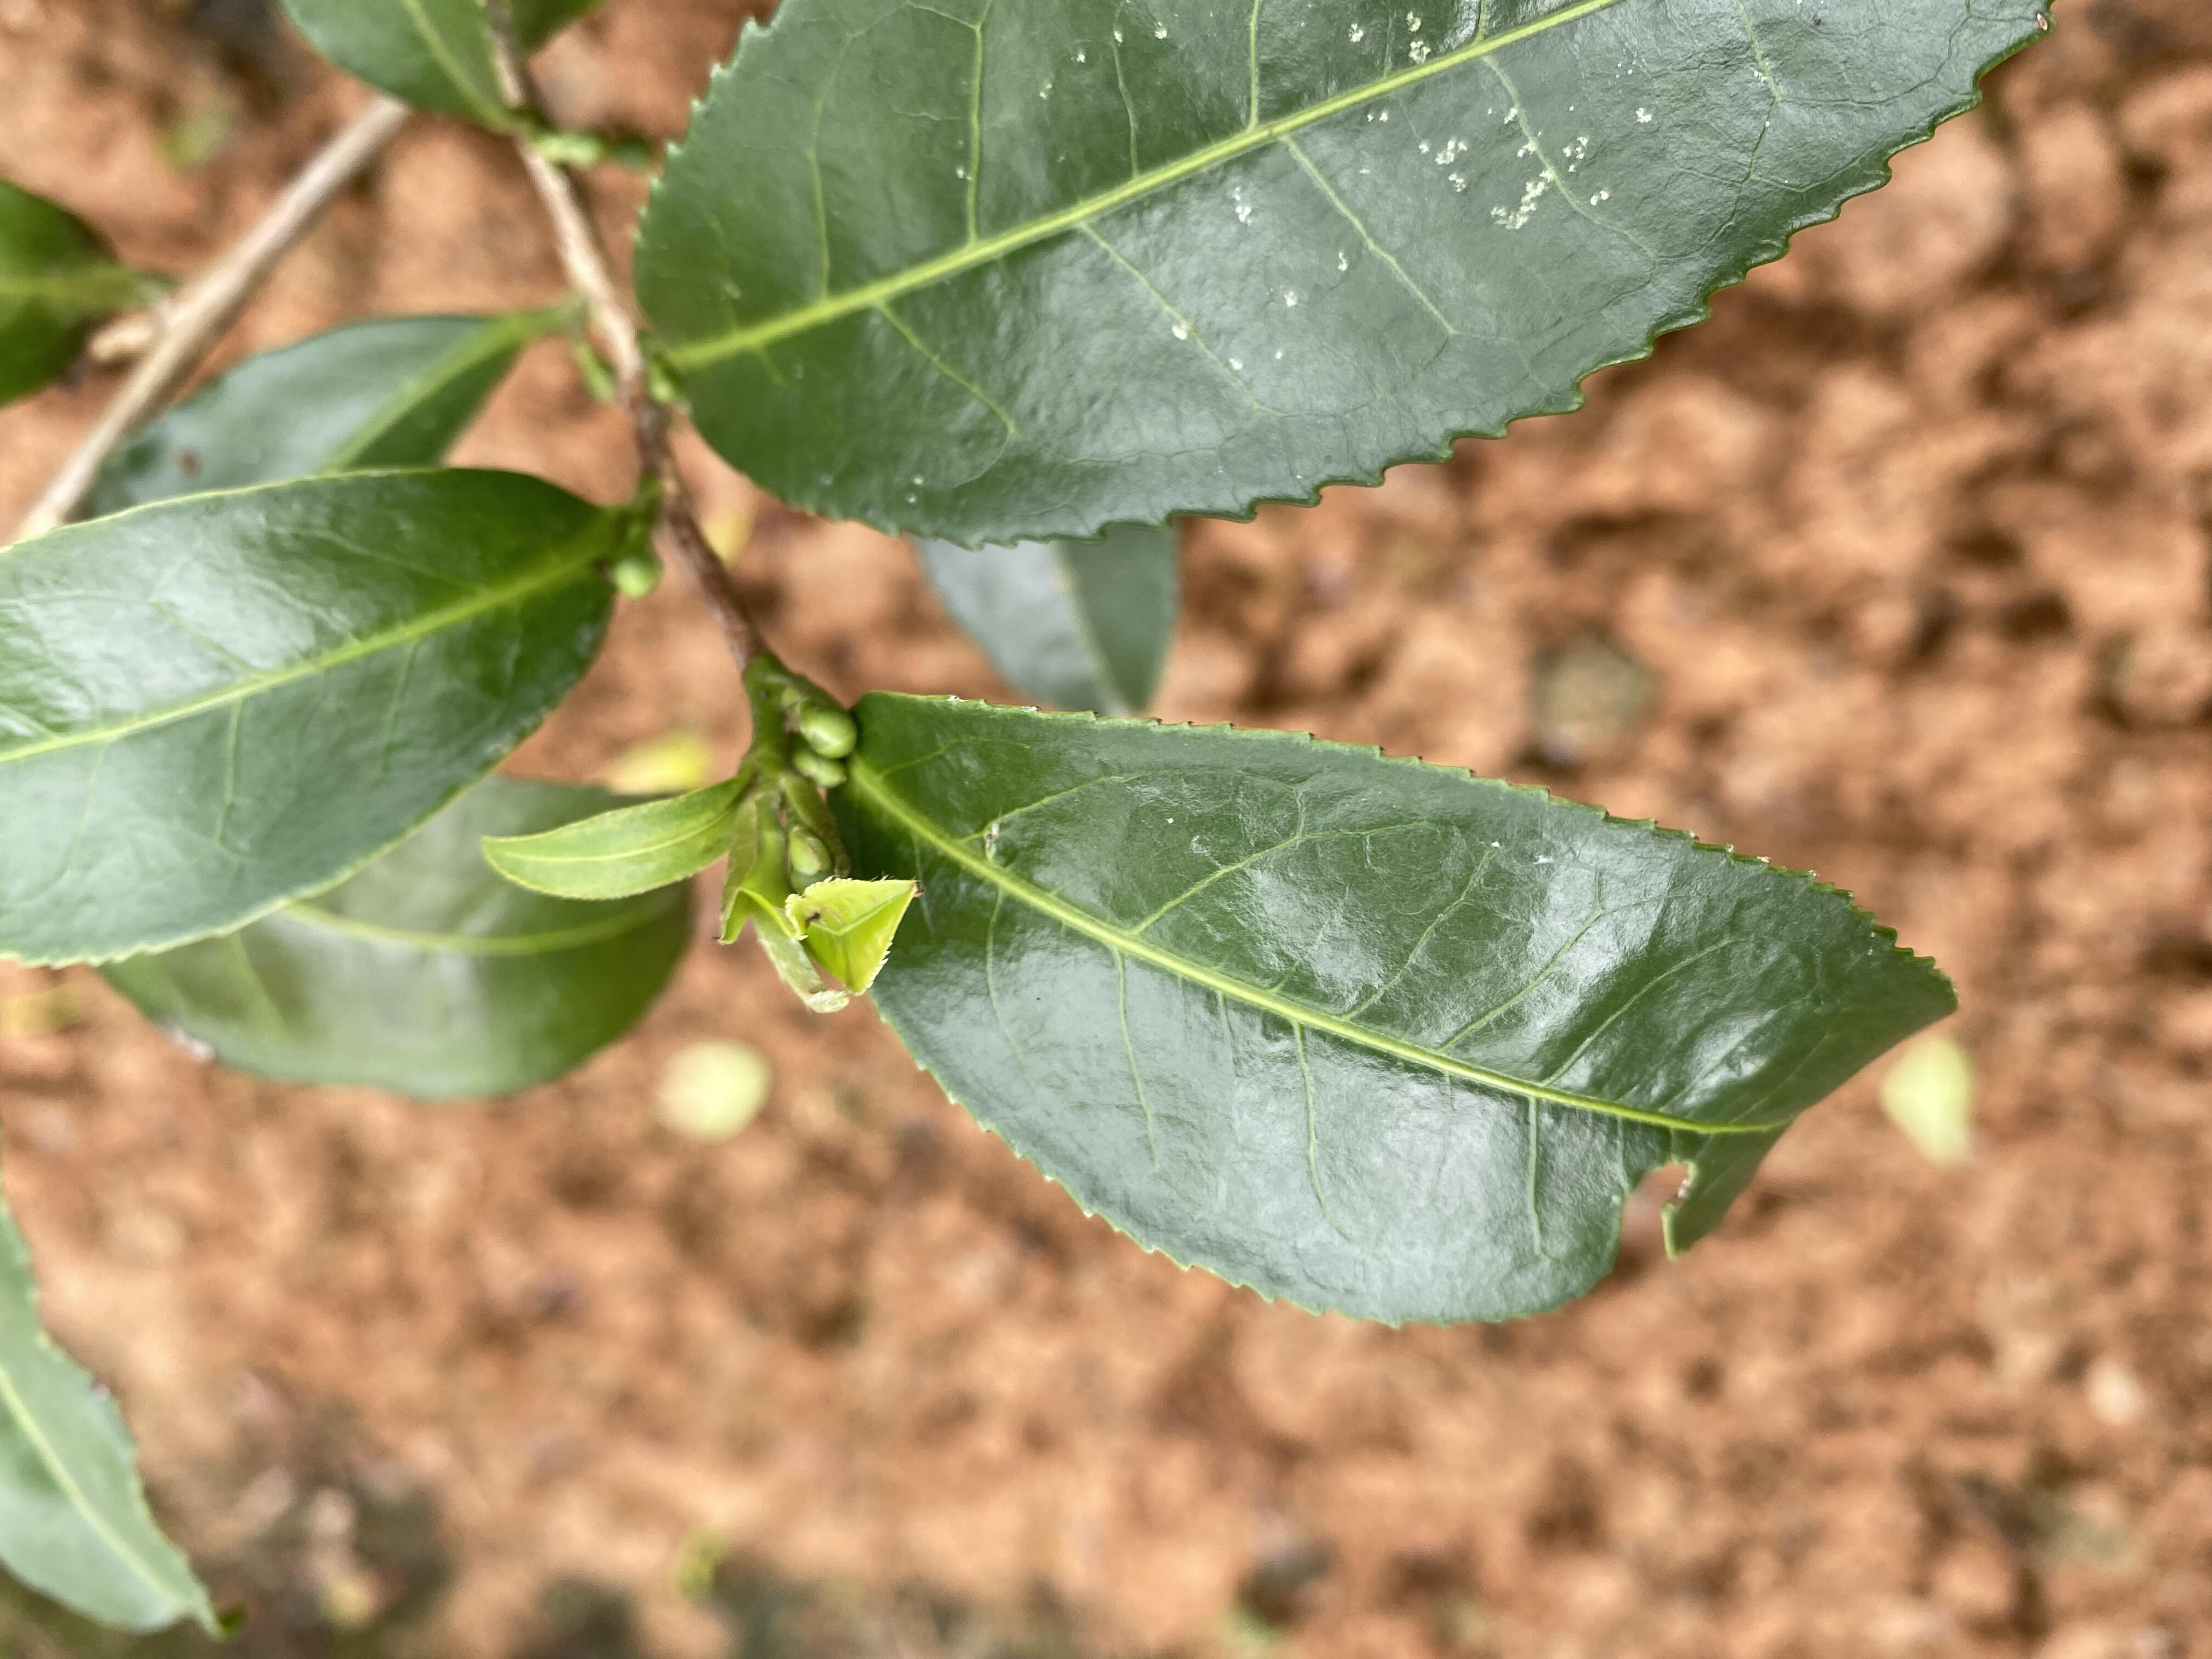chihuo_low: (834, 690, 1963, 1330)
healthy: (3, 467, 613, 965)
